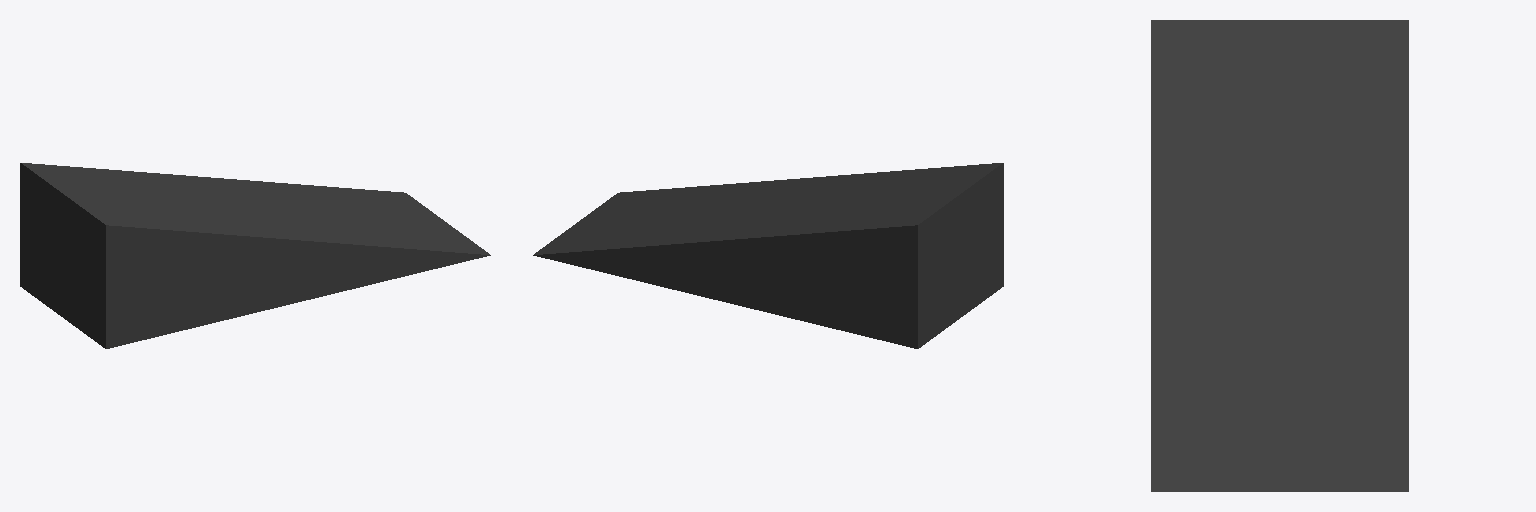
robot.urdf — obj_05:
<?xml version="1.0"?>
<robot name="obj_05">
  <!-- rubber doorstop: rubber, 150 g. Written by Darius 0.2.0. Link frame: +z up, origin at the capture-time bounding-box center; place it at the pose in world.json -->
  <mujoco>
    <compiler meshdir="../meshes/" discardvisual="true" balanceinertia="true" fusestatic="false" />
  </mujoco>
  <link name="obj_05">
    <inertial>
      <origin xyz="-0.02167 0 -0.00667" rpy="0 0 0" />
      <mass value="0.15" />
      <inertia ixx="4.45833e-05" ixy="0" ixz="2.16667e-05" iyy="0.000154167" iyz="0" izz="0.000172083" />
    </inertial>
    <visual>
      <geometry>
        <mesh filename="../meshes/obj_05_visual.obj" />
      </geometry>
      <material name="obj_05_color">
        <color rgba="0.29 0.29 0.29 1" />
      </material>
    </visual>
    <collision name="obj_05">
      <geometry>
        <mesh filename="../meshes/obj_05.obj" />
      </geometry>
    </collision>
    <contact>
      <lateral_friction value="0.9" />
      <restitution value="0.3" />
    </contact>
  </link>
</robot>

--- Render facts (derived) ---
3 views of the same robot in one strip: view 1: azimuth 30°, elevation 25°; view 2: azimuth 150°, elevation 25°; view 3: azimuth 270°, elevation 25° (orthographic).
Model obj_05 with 1 links and 0 joints (none), rooted at obj_05, posed all joints at 0.
Visible links, largest first — view 1: obj_05; view 2: obj_05; view 3: obj_05.
Link boxes in pixels (bbox=[...]): obj_05: bbox=[20, 163, 490, 348]; obj_05: bbox=[533, 163, 1003, 348]; obj_05: bbox=[1151, 20, 1408, 491].
Bounding box of the posed robot: 0.13 × 0.05 × 0.04 m (x, y, z).
1 mesh visuals loaded from 1 distinct referenced files (1 OBJ).
